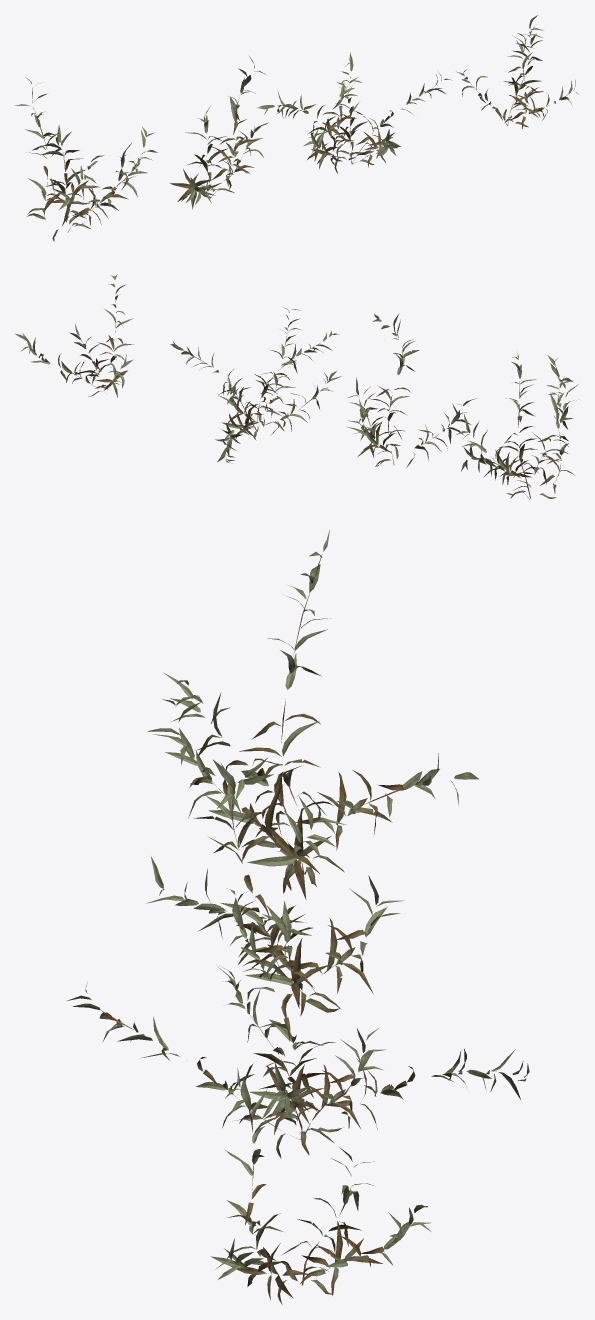
Rendered from shrub2.glb.
3 views of the same model, one above another, from view 1: azimuth 30°, elevation 25°; view 2: azimuth 150°, elevation 25°; view 3: azimuth 270°, elevation 25° (orthographic). The views are drawn at different scales.
Parts seen in each view (by area): view 1: shrub_02_c, shrub_02_a, shrub_02_b, shrub_02_d; view 2: shrub_02_a, shrub_02_c, shrub_02_b, shrub_02_d; view 3: shrub_02_a, shrub_02_c, shrub_02_b, shrub_02_d.
Boxes of the visible parts, bbox=[...] form: shrub_02_c: bbox=[257, 52, 451, 173]; shrub_02_a: bbox=[15, 77, 157, 241]; shrub_02_b: bbox=[170, 56, 268, 209]; shrub_02_d: bbox=[456, 15, 578, 128]; shrub_02_a: bbox=[456, 352, 578, 499]; shrub_02_c: bbox=[170, 307, 341, 463]; shrub_02_b: bbox=[347, 314, 476, 467]; shrub_02_d: bbox=[14, 274, 133, 397]; shrub_02_a: bbox=[147, 530, 479, 899]; shrub_02_c: bbox=[67, 888, 529, 1158]; shrub_02_b: bbox=[146, 757, 404, 1017]; shrub_02_d: bbox=[210, 1068, 431, 1304].
Bounding box in the file's own units: 6.05 × 1.7 × 2.28.
Materials: 1 (1 with a texture image).
